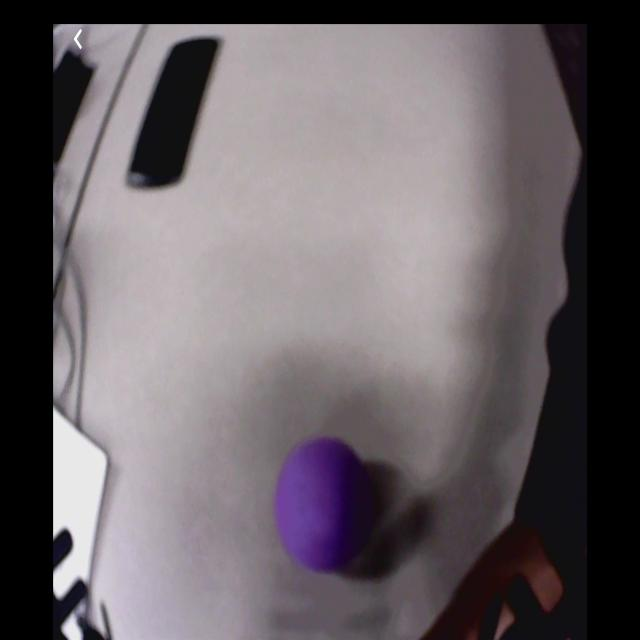ball: (276, 439, 369, 574)
